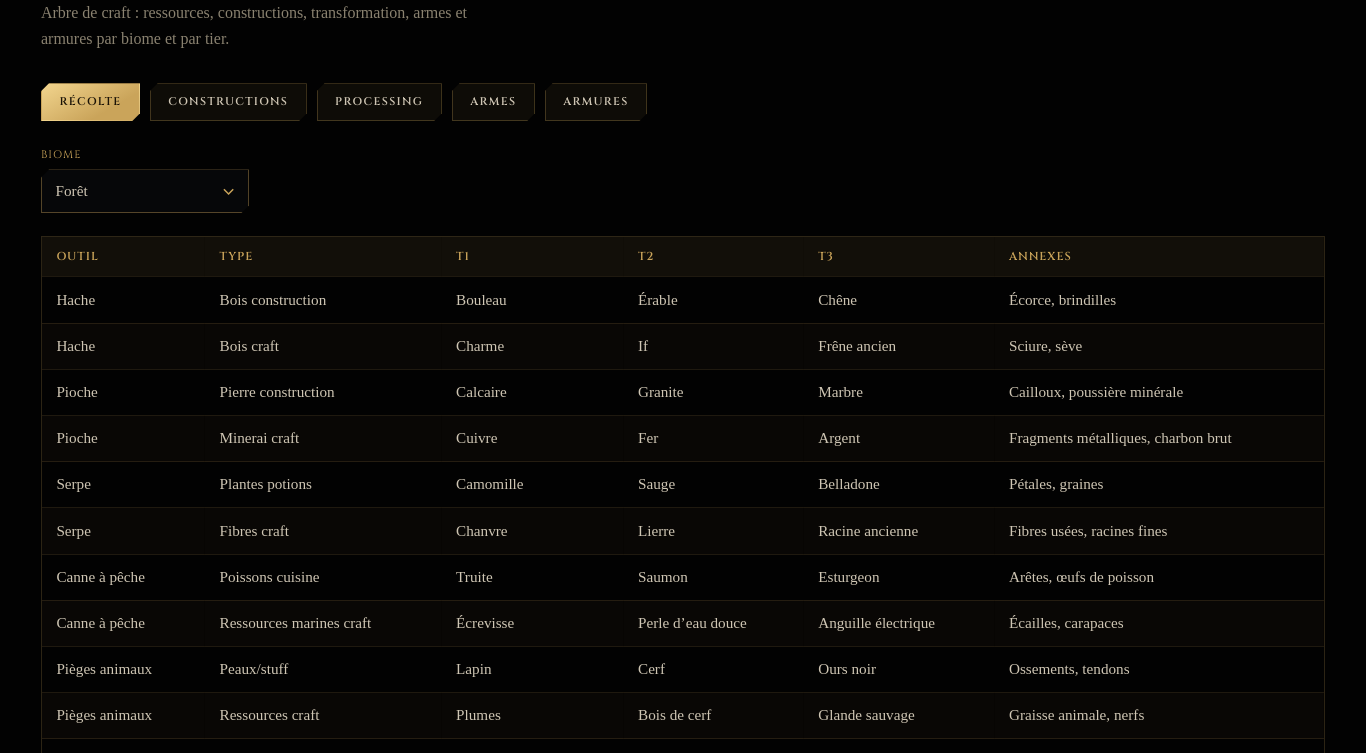
Scenario: CraftTree › masque le sélecteur de biome pour les constructions (4 colonnes)
Click the tab with class "craft__tab" showing "Constructions" at (228, 102), box [150,83,307,121]
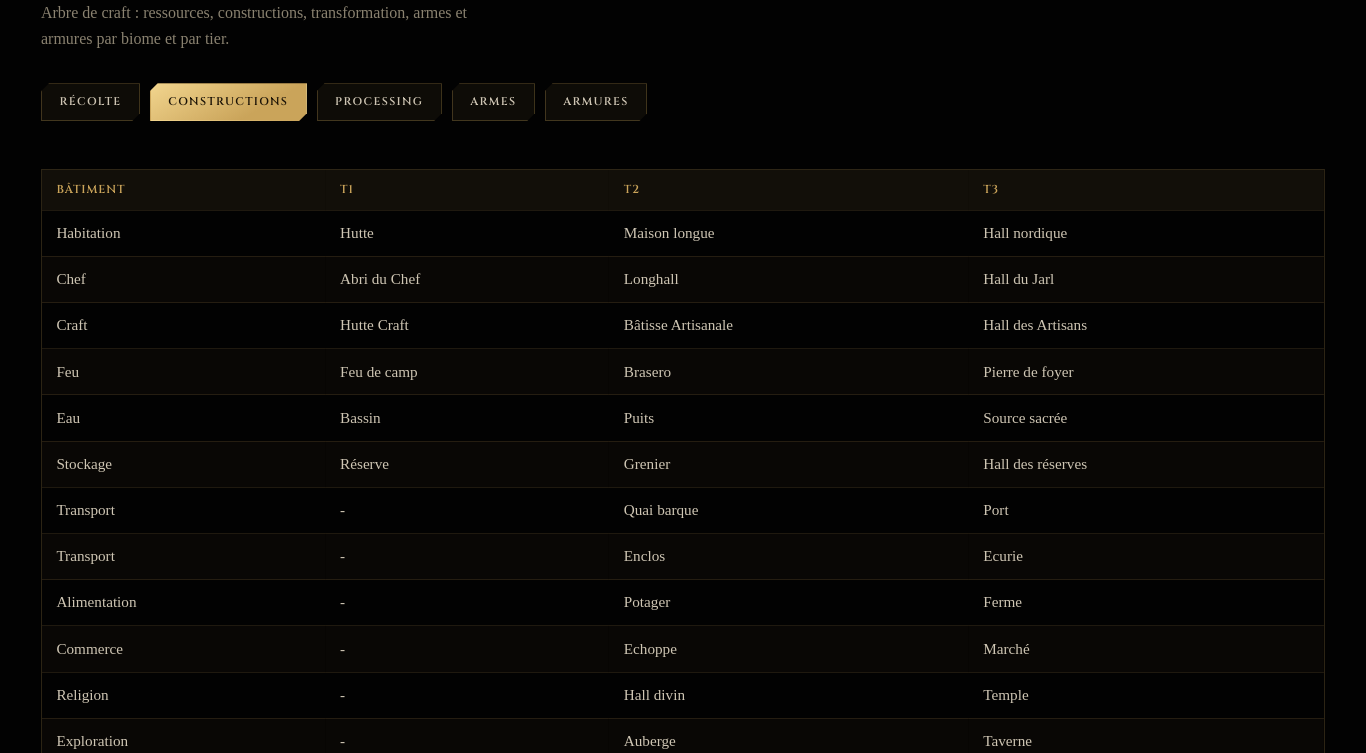
Now no elements with class "craft__control" are shown
Now the number of column headings is 4, box [42,170,326,210]; [326,170,609,210]; [609,170,969,210]; [969,170,1324,210]
